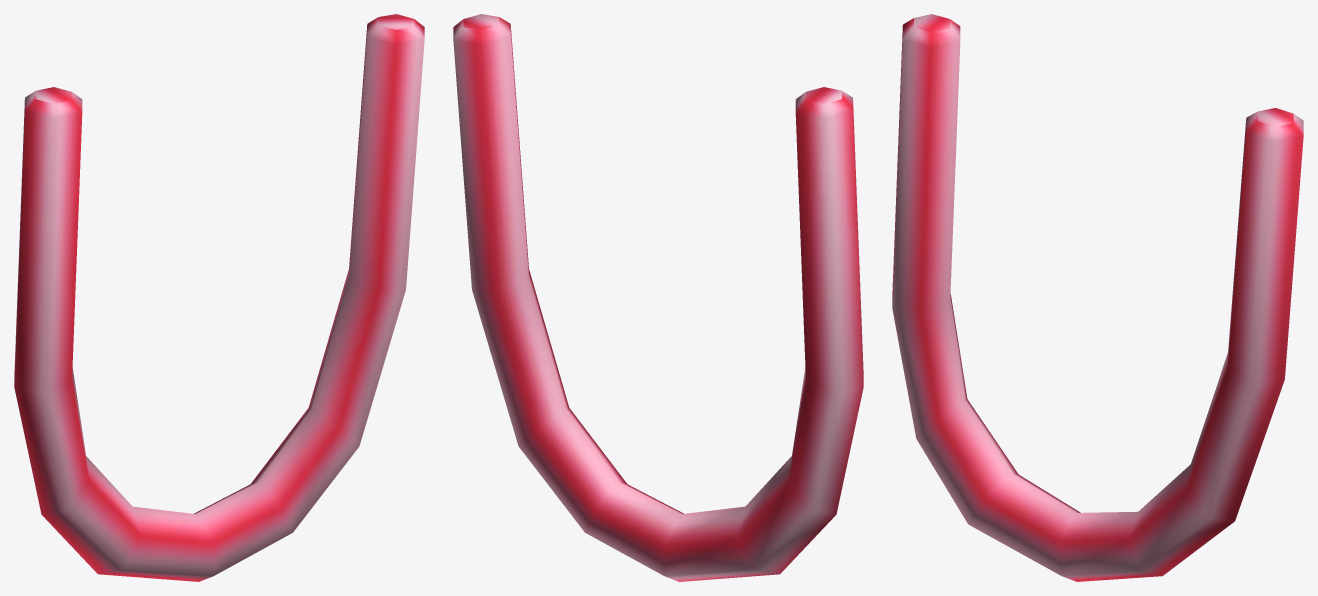
Rendered from furni_0200155.FBX.
3 views of the same model, side by side, from view 1: azimuth 30°, elevation 25°; view 2: azimuth 150°, elevation 25°; view 3: azimuth 330°, elevation 25° (orthographic).
Visible parts, largest first — view 1: furni_0200155; view 2: furni_0200155; view 3: furni_0200155.
Part boxes in pixels (bbox=[...]): furni_0200155: bbox=[14, 14, 424, 581]; furni_0200155: bbox=[453, 14, 863, 581]; furni_0200155: bbox=[892, 14, 1303, 581].
Size of the model in its own units: 44.5 by 54.17 by 6.23.
Materials: 1 (1 with a texture image).
